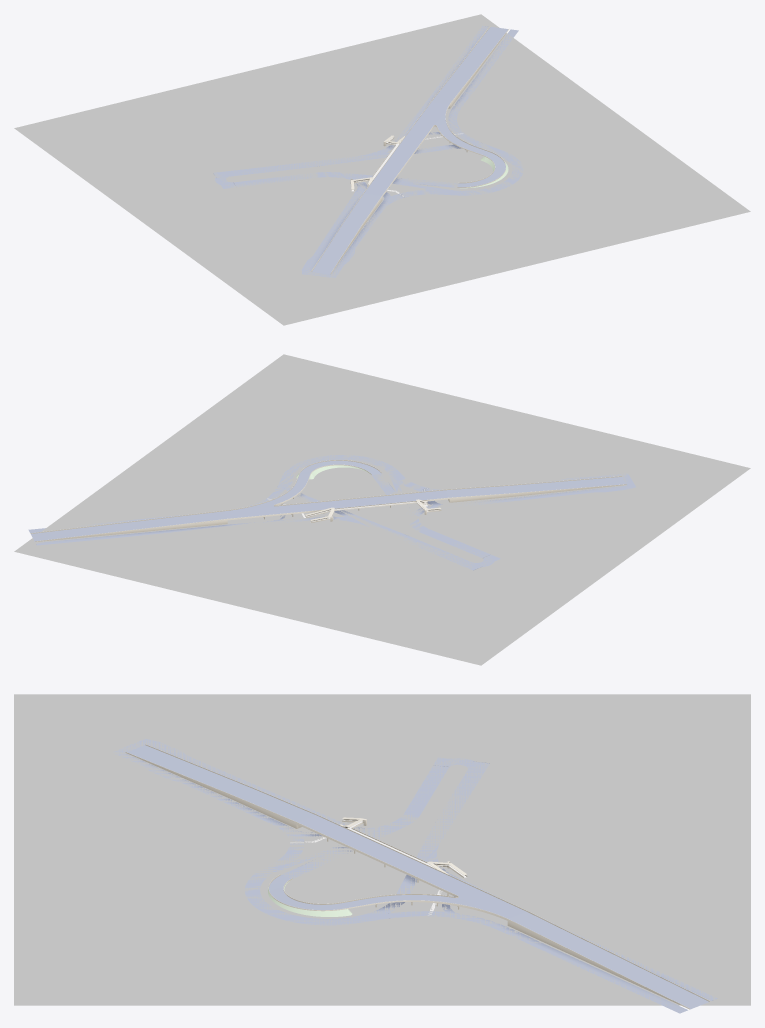
The model's file is Riskulov-Kuldzhinsky.glb.
3 views of the same model, one above another, from view 1: azimuth 30°, elevation 25°; view 2: azimuth 150°, elevation 25°; view 3: azimuth 270°, elevation 25° (orthographic). The views are drawn at different scales.
Visible parts, largest first — view 1: Plane, group_2, group_7.002; view 2: Plane, group_2, group_7.002; view 3: Plane, group_2, group_7.002.
Part boxes in pixels (left/top/right/bottom): Plane: left=14, top=14, right=750, bottom=325; group_2: left=213, top=26, right=523, bottom=277; group_7.002: left=311, top=26, right=508, bottom=273; Plane: left=14, top=354, right=750, bottom=665; group_2: left=28, top=455, right=635, bottom=570; group_7.002: left=30, top=460, right=626, bottom=541; Plane: left=14, top=694, right=750, bottom=1005; group_2: left=113, top=738, right=717, bottom=1013; group_7.002: left=125, top=744, right=709, bottom=1009.
Bounding box in the file's own units: 782 × 11 × 763.
7 materials, 3 textured.
